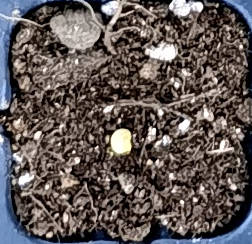chilli seed: (110, 128, 131, 154)
